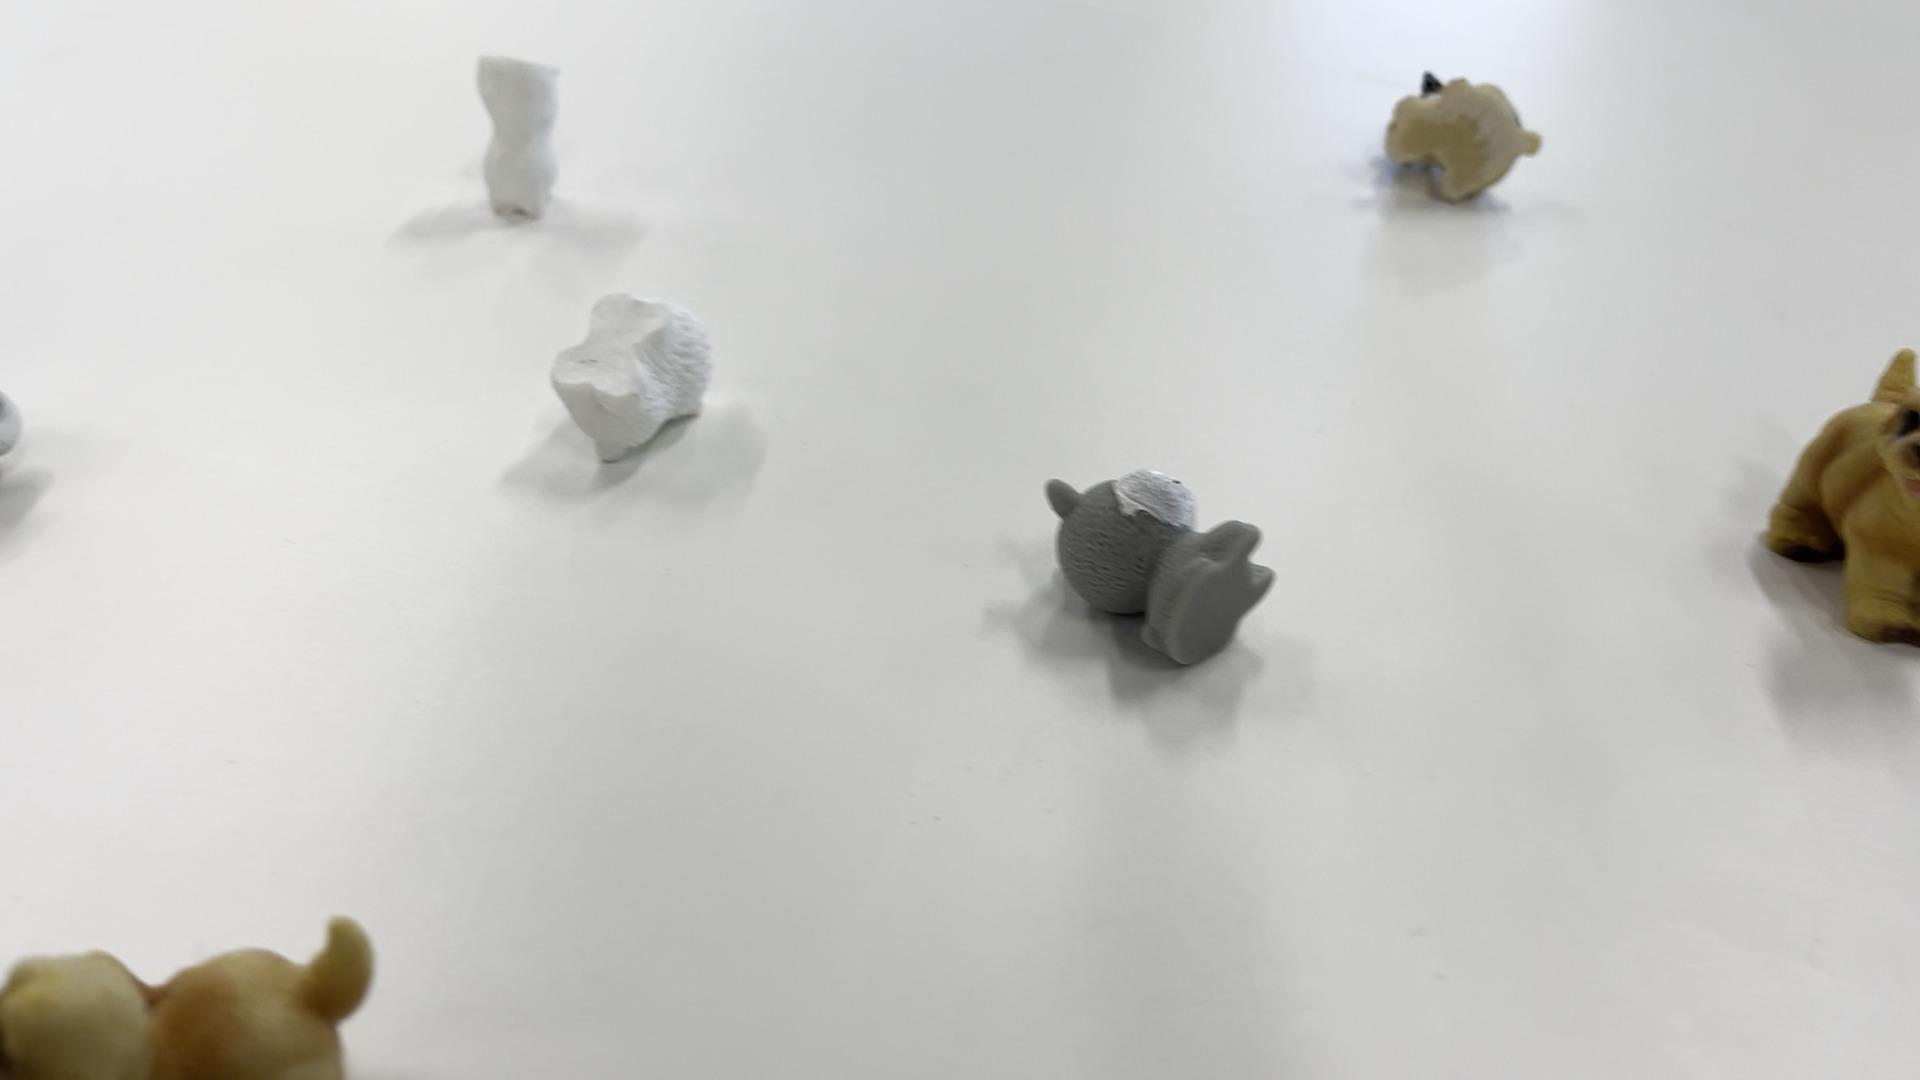pet: (8, 935, 433, 1077), (1027, 463, 1284, 691), (534, 286, 806, 487), (1751, 343, 1913, 620), (1365, 69, 1547, 224), (471, 59, 559, 260)
